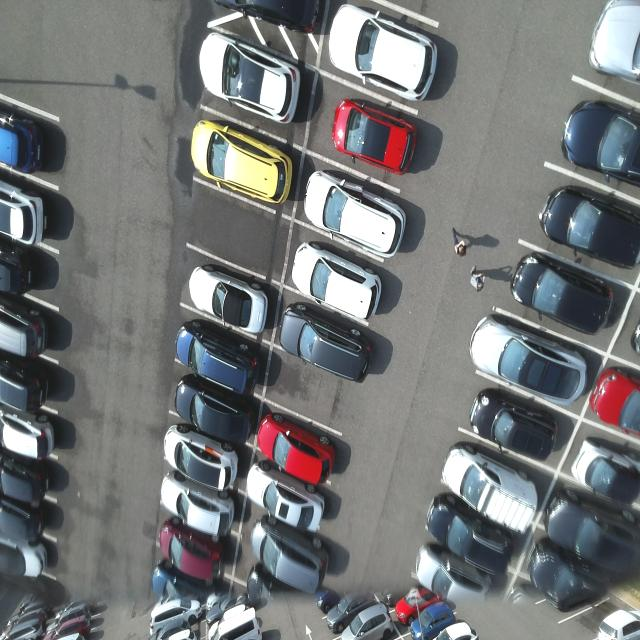car: (327, 3, 440, 103), (465, 314, 588, 405), (535, 177, 640, 275), (196, 30, 303, 126), (305, 171, 411, 261), (443, 444, 543, 539), (191, 119, 296, 209), (425, 485, 515, 582), (508, 254, 615, 335), (278, 302, 376, 386), (292, 240, 384, 325), (173, 315, 263, 399), (333, 98, 423, 178), (469, 380, 558, 460), (259, 411, 341, 488), (247, 461, 331, 536), (188, 261, 270, 335), (162, 423, 240, 499), (174, 369, 253, 441), (161, 467, 235, 537), (158, 517, 230, 581)
free_space: (186, 176, 296, 286), (264, 343, 359, 440)
